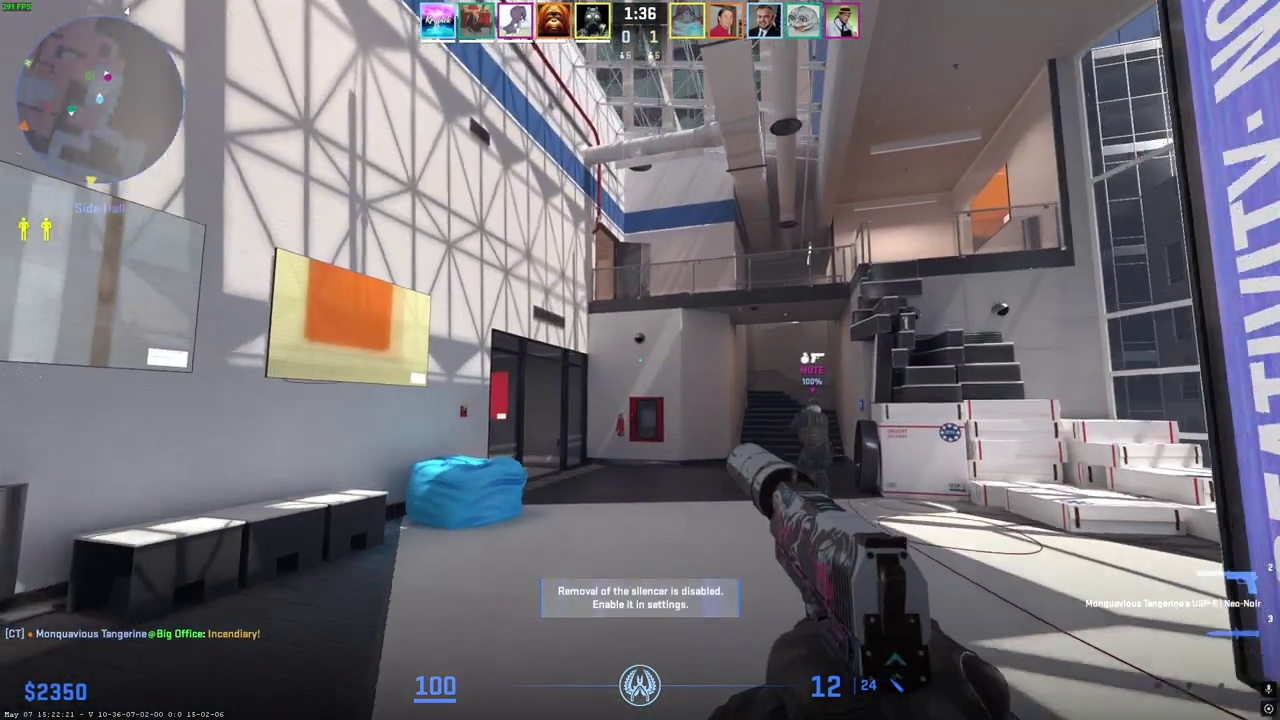CT: (788, 397, 835, 476)
